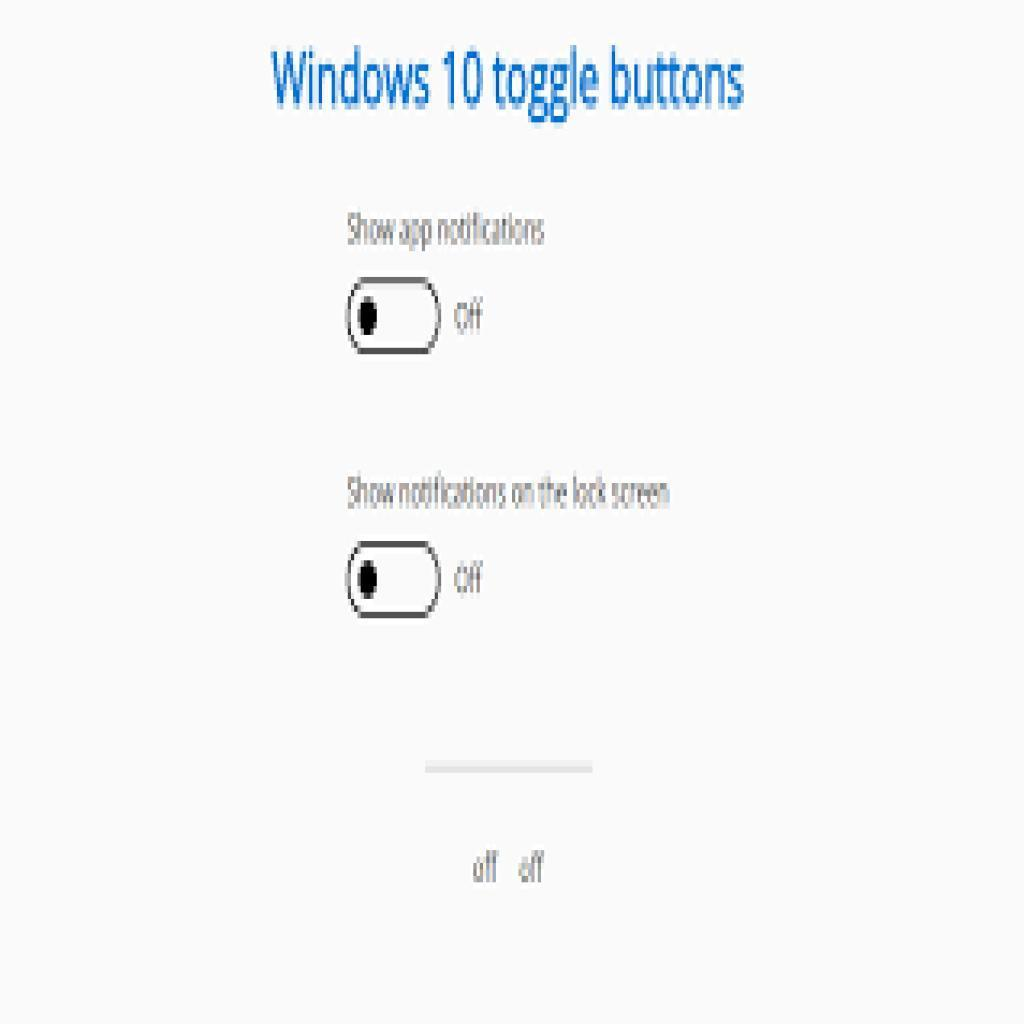label: (340, 465, 676, 517), (341, 205, 555, 254), (452, 294, 493, 339), (451, 556, 488, 599)
switch: (344, 276, 442, 357), (353, 543, 441, 619)
